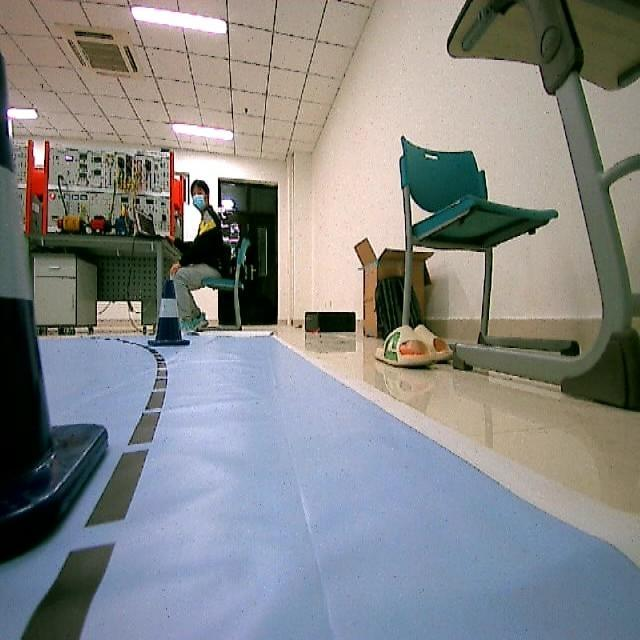obstacle: (152, 281, 190, 349)
